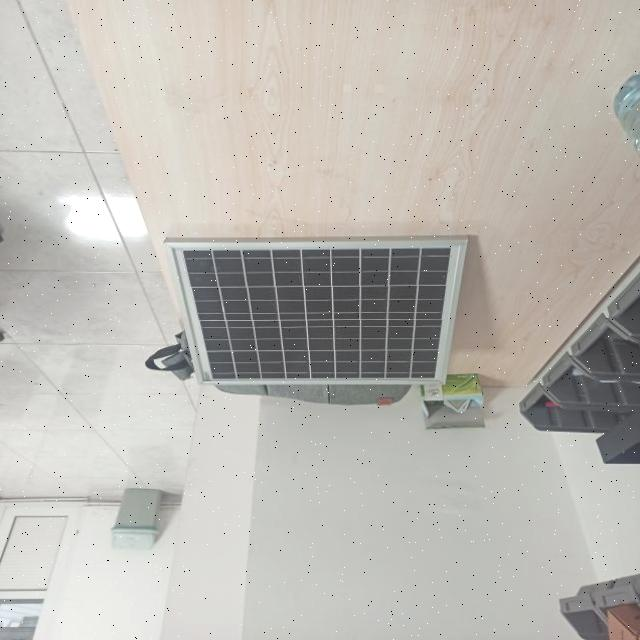Normal Solar Panel: (167, 240, 467, 384)
